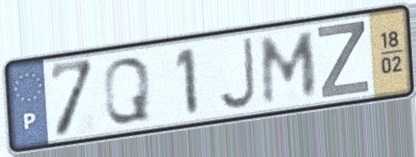1: (173, 45, 202, 116)
7: (49, 55, 95, 140)
J: (215, 34, 258, 113)
M: (260, 28, 319, 107)
Q: (101, 54, 153, 127)
Z: (314, 19, 372, 101)
